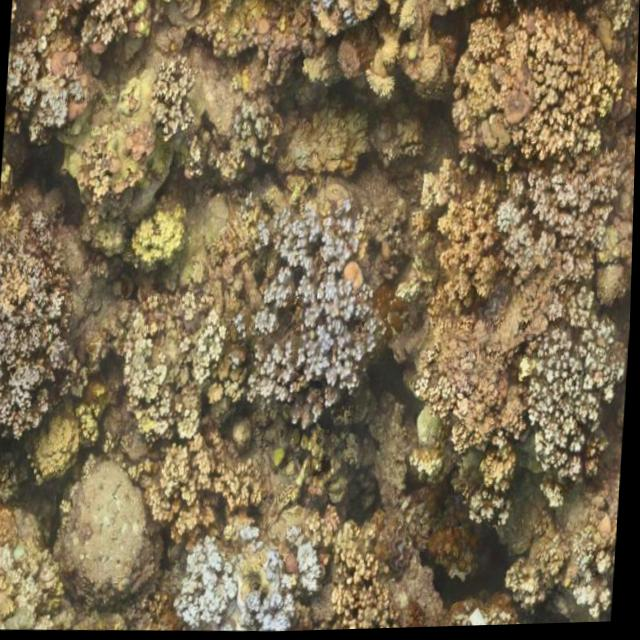Bleached Coral: (269, 197, 364, 404), (185, 520, 317, 635)
